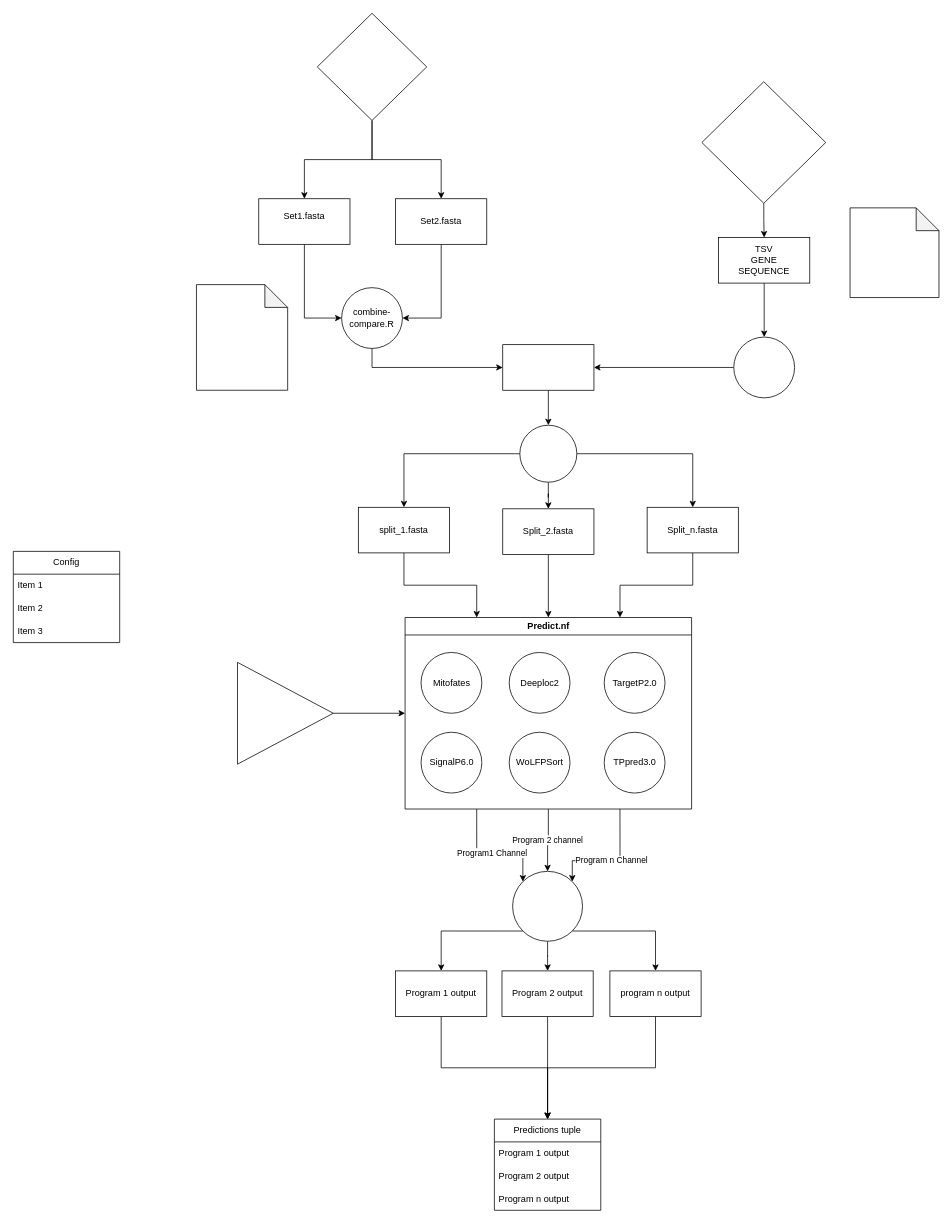
The diagram is 952 pixels wide and 1224 high, and some of its shapes have lost their labels. The centre of each missing label's shape, as x and y in pixels:
".collectFiles nextflow" goes at pixel 547 906.
".splitFasta (nextflow)" goes at pixel 548 453.
"Adds identifier to sequence name and combines multifastas" goes at pixel 242 337.
"Comparitive dataset" goes at pixel 372 66.
"Multifasta File" goes at pixel 548 367.
"This contains multiple sequences with the same gene name" goes at pixel 894 252.
"TSV-Multifasta.R" goes at pixel 764 367.
"UNIPROT Prioeome" goes at pixel 763 142.
"USER:Software" goes at pixel 285 713.
